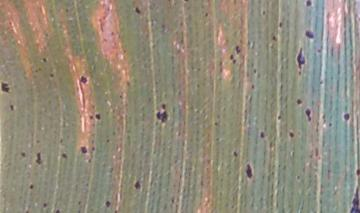tarspot: (154, 103, 169, 125), (350, 182, 360, 213), (295, 46, 307, 70), (244, 162, 253, 179), (304, 107, 312, 122), (78, 74, 89, 84), (305, 29, 315, 40), (1, 80, 10, 92), (133, 179, 142, 190), (35, 152, 42, 165), (234, 44, 242, 55), (134, 6, 142, 15), (314, 146, 320, 158), (343, 112, 350, 122), (295, 98, 303, 106), (213, 121, 221, 129), (259, 130, 266, 139), (304, 1, 313, 8), (9, 102, 15, 112), (19, 152, 27, 159), (104, 199, 111, 207), (276, 21, 284, 28), (232, 149, 238, 158), (161, 23, 167, 32), (354, 167, 360, 176), (41, 56, 48, 63), (61, 152, 68, 159), (289, 131, 296, 138), (276, 114, 283, 121), (249, 61, 256, 68), (170, 197, 176, 205), (126, 81, 132, 89), (171, 107, 177, 115), (199, 179, 205, 187), (179, 20, 185, 28), (64, 7, 70, 15), (80, 146, 86, 153), (95, 113, 101, 120), (35, 138, 41, 145), (59, 137, 65, 144), (177, 90, 183, 97), (260, 9, 266, 16), (318, 80, 325, 86), (28, 183, 34, 189), (49, 72, 55, 78), (250, 84, 256, 90), (297, 70, 303, 76), (271, 35, 277, 41), (203, 12, 209, 18), (87, 159, 93, 165), (90, 146, 96, 152), (105, 138, 111, 144), (206, 159, 212, 165), (252, 68, 258, 74), (317, 48, 323, 54), (296, 175, 302, 181), (279, 83, 284, 90), (54, 209, 62, 213), (229, 54, 235, 59), (231, 59, 237, 64), (328, 122, 333, 128), (76, 201, 82, 206), (118, 95, 123, 100), (88, 115, 94, 119), (42, 203, 47, 207)
